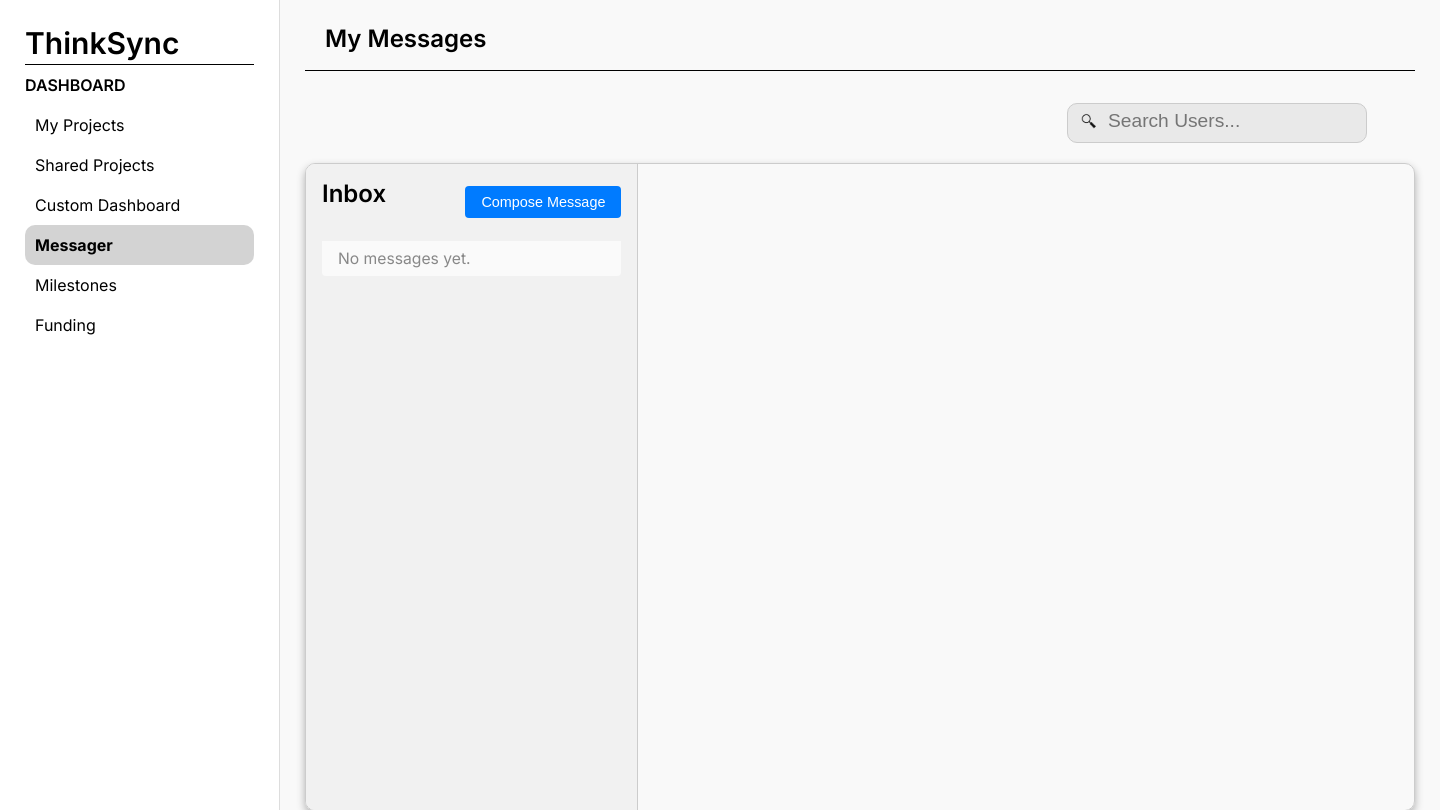
Test: Messaging Page › Message Composition › should open compose message modal
Click the button "Compose Message" at (543,202), box [465,186,621,218]
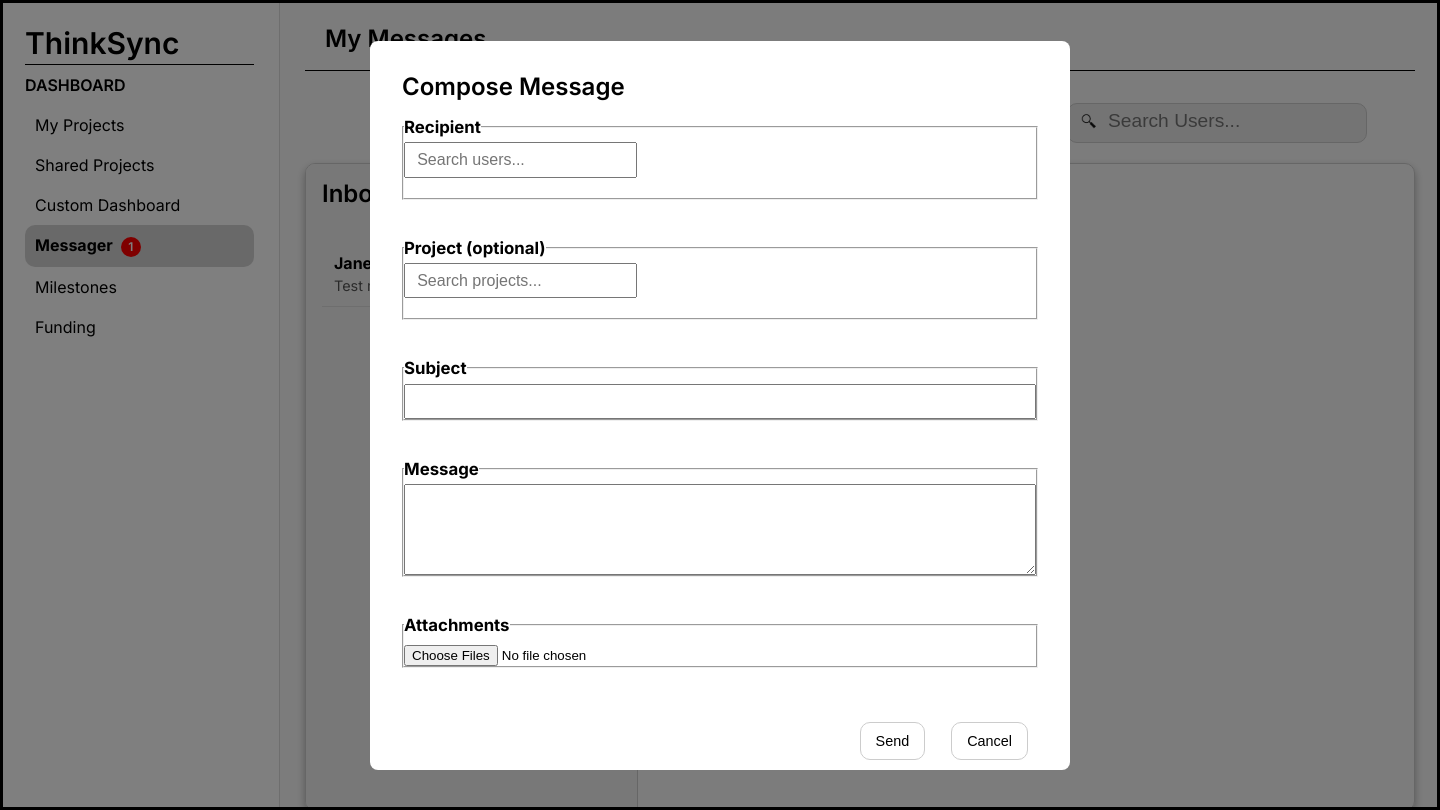
expect the dialog is shown: met
